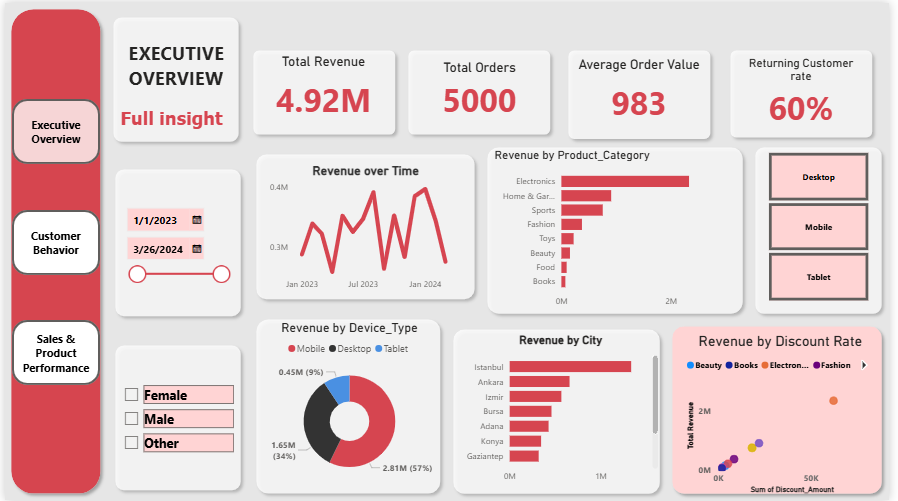

The dashboard page shown, as its layout file describes it:
{"tool":"powerbi","page":{"name":"Executive Overview","canvas":[1280,720],"ordinal":0},"visuals":[{"type":"shape","box":[0,0,147.4,720],"z":0},{"type":"shape","box":[350.1,59.5,223.9,140.3],"z":1000},{"type":"shape","box":[575.4,59.5,223.9,140.3],"z":2000},{"type":"shape","box":[807.2,59,224,146.9],"z":3000},{"type":"shape","box":[1041.7,59.5,223.9,144.6],"z":4000},{"type":"shape","box":[147.4,11.3,199.8,198.4],"z":5000},{"type":"textbox","box":[162.3,49.5,171.6,97.4],"z":6000},{"type":"textbox","box":[147.4,144.6,187.1,65.2],"z":7000},{"type":"shape","box":[150.2,232.4,199.8,231],"z":8000},{"type":"shape","box":[150.2,487.6,199.8,228.2],"z":9000},{"type":"shape","box":[355.7,209.8,334.5,228.2],"z":10000},{"type":"shape","box":[355.7,449.3,284.9,270.7],"z":11000},{"type":"shape","box":[1078.6,199.8,201.3,259.4],"z":12000},{"type":"shape","box":[690.2,199.8,388.3,259.4],"z":13000},{"type":"shape","box":[640.6,463.5,317.5,256.5],"z":14000},{"type":"shape","box":[958.1,459.2,321.7,260.8],"z":15000},{"type":"card","title":"Total Revenue","fields":{"Values":["Orders.Total Revenue"]},"box":[365.7,73.7,192.8,106.3],"z":16000},{"type":"card","title":"Total Orders","fields":{"Values":["Orders.Total Orders"]},"box":[591,82.2,192.8,90.7],"z":17000},{"type":"card","title":"Average Order Value","fields":{"Values":["Orders.Average Order Value"]},"box":[824.9,78,188.5,107.7],"z":18000},{"type":"card","title":"Returning Customer rate","fields":{"Values":["Customers.Returning Customer Rate"]},"box":[1060.9,76.8,185.5,110.1],"z":19000},{"type":"lineChart","title":"Revenue over Time","fields":{"Y":["Orders.Total Revenue"],"Category":["Orders.Date.Variation.Date Hierarchy.Year","Orders.Date.Variation.Date Hierarchy.Quarter","Orders.Date.Variation.Date Hierarchy.Month"]},"box":[378.4,232.4,289.1,194.2],"z":20000},{"type":"barChart","title":"Revenue by Product_Category","fields":{"Y":["Orders.Total Revenue"],"Category":["Orders.Product_Category"]},"box":[704.4,209.8,354.3,239.5],"z":21000},{"type":"donutChart","title":"Revenue by Device_Type","fields":{"Y":["Orders.Total Revenue"],"Category":["Orders.Device_Type"]},"box":[369.9,459.2,259.4,243.8],"z":22000},{"type":"scatterChart","title":"Revenue by Discount Rate","fields":{"X":["Sum(Orders.Discount_Amount)"],"Y":["Orders.Total Revenue"],"Size":["Sum(Orders.Quantity)"],"Series":["Orders.Product_Category"]},"box":[982.2,477.6,282,238.1],"z":23000},{"type":"slicer","fields":{"Values":["Orders.Device_Type"]},"box":[1081.4,209.8,194.2,228.2],"z":24000},{"type":"slicer","fields":{"Values":["Orders.Date"]},"box":[164.4,286.3,171.5,123.3],"z":25000},{"type":"slicer","fields":{"Values":["Customers.Gender"]},"box":[160.2,544.3,175.7,141.7],"z":26000},{"type":"barChart","title":"Revenue by City","fields":{"Category":["Customers.City"],"Y":["Orders.Total Revenue"]},"box":[659.1,477.6,292,225.4],"z":27000},{"type":"actionButton","box":[10.1,300,127.5,94.2],"z":28002},{"type":"actionButton","box":[10.1,459.4,127.5,94.2],"z":28003},{"type":"actionButton","box":[10.1,139.1,127.5,94.2],"z":28004}]}

Visuals, with their boxes in screenshot pixels (x1, y1, x2, y2), scaled from the page's 1280x720 canvas onto the 898x501 screenshot:
shape: <bbox>0, 0, 103, 500</bbox>
shape: <bbox>246, 41, 403, 139</bbox>
shape: <bbox>404, 41, 561, 139</bbox>
shape: <bbox>566, 41, 723, 143</bbox>
shape: <bbox>731, 41, 888, 142</bbox>
shape: <bbox>103, 8, 244, 146</bbox>
textbox: <bbox>114, 34, 234, 102</bbox>
textbox: <bbox>103, 101, 235, 146</bbox>
shape: <bbox>105, 162, 246, 322</bbox>
shape: <bbox>105, 339, 246, 498</bbox>
shape: <bbox>250, 146, 484, 305</bbox>
shape: <bbox>250, 313, 449, 500</bbox>
shape: <bbox>757, 139, 897, 320</bbox>
shape: <bbox>484, 139, 757, 320</bbox>
shape: <bbox>449, 323, 672, 500</bbox>
shape: <bbox>672, 320, 897, 500</bbox>
"Total Revenue" card: <bbox>257, 51, 392, 125</bbox>
"Total Orders" card: <bbox>415, 57, 550, 120</bbox>
"Average Order Value" card: <bbox>579, 54, 711, 129</bbox>
"Returning Customer rate" card: <bbox>744, 53, 874, 130</bbox>
"Revenue over Time" lineChart: <bbox>265, 162, 468, 297</bbox>
"Revenue by Product_Category" barChart: <bbox>494, 146, 743, 313</bbox>
"Revenue by Device_Type" donutChart: <bbox>260, 320, 441, 489</bbox>
"Revenue by Discount Rate" scatterChart: <bbox>689, 332, 887, 498</bbox>
slicer - Orders.Device_Type: <bbox>759, 146, 895, 305</bbox>
slicer - Orders.Date: <bbox>115, 199, 236, 285</bbox>
slicer - Customers.Gender: <bbox>112, 379, 236, 477</bbox>
"Revenue by City" barChart: <bbox>462, 332, 667, 489</bbox>
actionButton: <bbox>7, 209, 97, 274</bbox>
actionButton: <bbox>7, 320, 97, 385</bbox>
actionButton: <bbox>7, 97, 97, 162</bbox>
